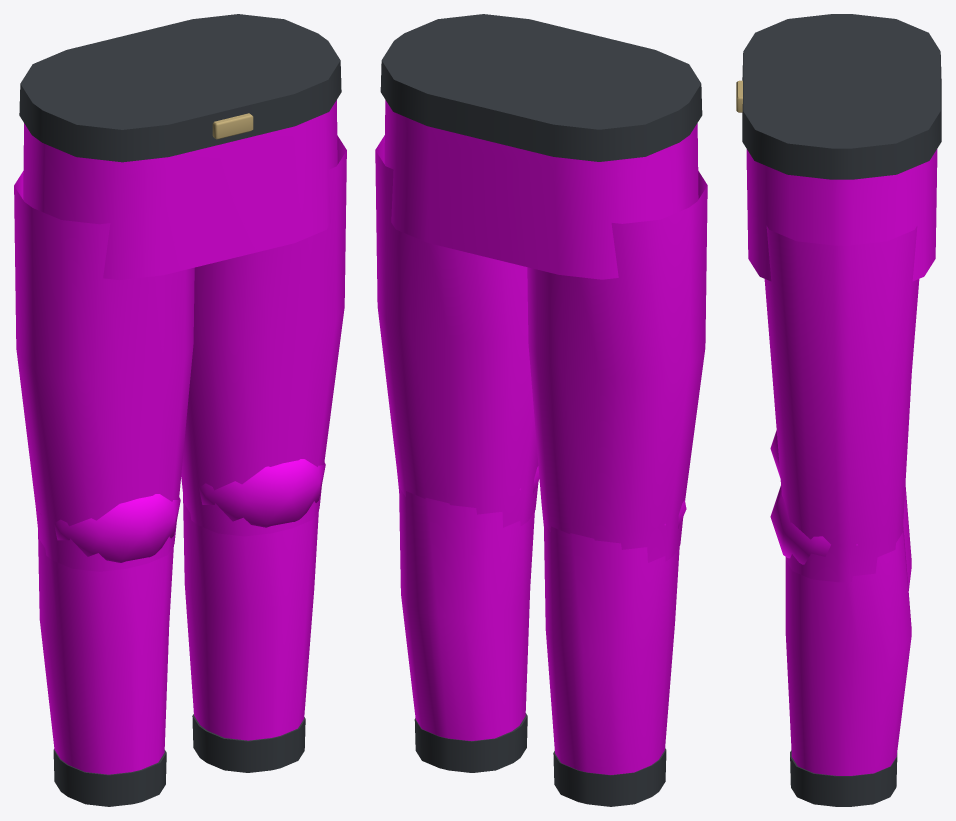
The model's file is porte_pantalon.glb.
The picture shows the model from 3 angles, left to right: view 1: azimuth 30°, elevation 25°; view 2: azimuth 150°, elevation 25°; view 3: azimuth 270°, elevation 25°; orthographic projection. The views are drawn at different scales.
Parts seen in each view (by area): view 1: cuisse_d__pantalon_teinte.002, cuisse_g__pantalon_teinte.002, bassin__pantalon_teinte_sombre.002, bassin__pantalon_teinte.002, jambe_g__pantalon_teinte.002, jambe_d__pantalon_teinte.002, jambe_g__pantalon_teinte_sombre.002, jambe_d__pantalon_teinte_sombre.002, bassin__pantalon_boucle.002; view 2: cuisse_d__pantalon_teinte.002, cuisse_g__pantalon_teinte.002, bassin__pantalon_teinte_sombre.002, bassin__pantalon_teinte.002, jambe_g__pantalon_teinte.002, jambe_d__pantalon_teinte.002, jambe_g__pantalon_teinte_sombre.002, jambe_d__pantalon_teinte_sombre.002; view 3: cuisse_g__pantalon_teinte.002, bassin__pantalon_teinte_sombre.002, jambe_g__pantalon_teinte.002, bassin__pantalon_teinte.002, jambe_g__pantalon_teinte_sombre.002, jambe_d__pantalon_teinte.002.
Boxes of the visible parts, left/top/right/bottom form: cuisse_d__pantalon_teinte.002: left=14, top=171, right=194, bottom=571; cuisse_g__pantalon_teinte.002: left=181, top=135, right=346, bottom=536; bassin__pantalon_teinte_sombre.002: left=19, top=14, right=341, bottom=162; bassin__pantalon_teinte.002: left=23, top=100, right=337, bottom=280; jambe_g__pantalon_teinte.002: left=183, top=459, right=325, bottom=740; jambe_d__pantalon_teinte.002: left=38, top=494, right=180, bottom=774; jambe_g__pantalon_teinte_sombre.002: left=192, top=714, right=305, bottom=772; jambe_d__pantalon_teinte_sombre.002: left=53, top=749, right=166, bottom=806; bassin__pantalon_boucle.002: left=212, top=113, right=253, bottom=139; cuisse_d__pantalon_teinte.002: left=527, top=171, right=707, bottom=562; cuisse_g__pantalon_teinte.002: left=375, top=135, right=538, bottom=527; bassin__pantalon_teinte_sombre.002: left=380, top=14, right=702, bottom=161; bassin__pantalon_teinte.002: left=384, top=100, right=698, bottom=279; jambe_g__pantalon_teinte.002: left=399, top=466, right=539, bottom=740; jambe_d__pantalon_teinte.002: left=544, top=500, right=686, bottom=774; jambe_g__pantalon_teinte_sombre.002: left=414, top=713, right=527, bottom=772; jambe_d__pantalon_teinte_sombre.002: left=553, top=748, right=666, bottom=806; cuisse_g__pantalon_teinte.002: left=764, top=226, right=919, bottom=582; bassin__pantalon_teinte_sombre.002: left=742, top=14, right=941, bottom=179; jambe_g__pantalon_teinte.002: left=770, top=486, right=911, bottom=775; bassin__pantalon_teinte.002: left=746, top=149, right=937, bottom=281; jambe_g__pantalon_teinte_sombre.002: left=790, top=750, right=897, bottom=806; jambe_d__pantalon_teinte.002: left=770, top=430, right=911, bottom=590.
Size of the model in its own units: 0.398 by 0.87 by 0.241.
